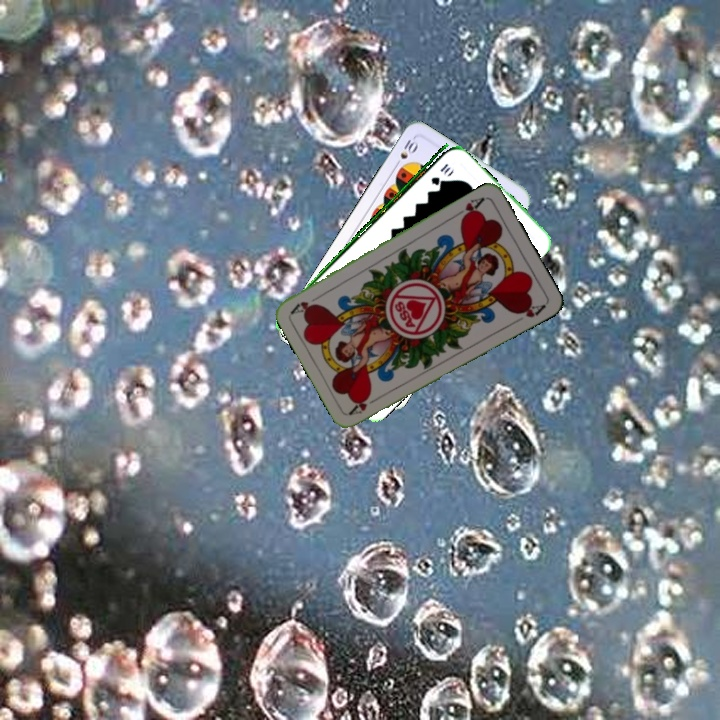G10: (427, 159, 453, 187)
HA: (451, 193, 487, 223), (345, 391, 383, 418)
S10: (390, 133, 421, 172)
